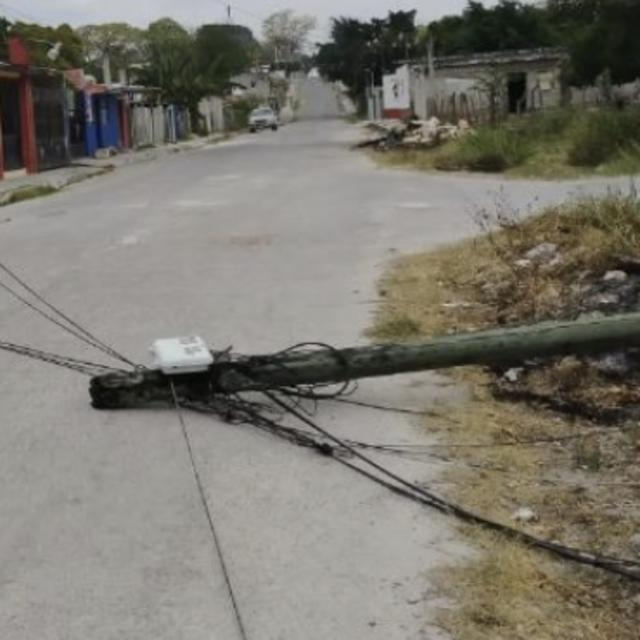Inclined Pole: (81, 308, 640, 452)
